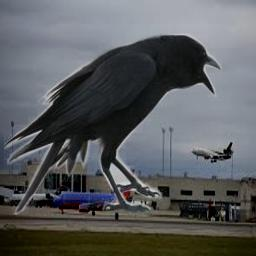Crow: (4, 33, 222, 215)
